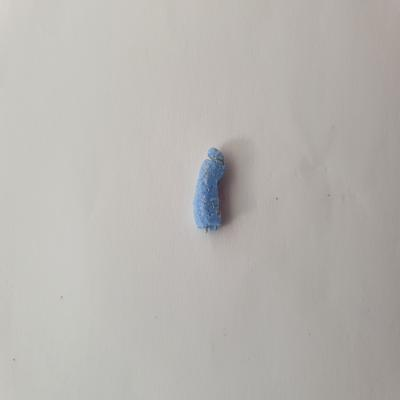plastic: (189, 144, 233, 238)
